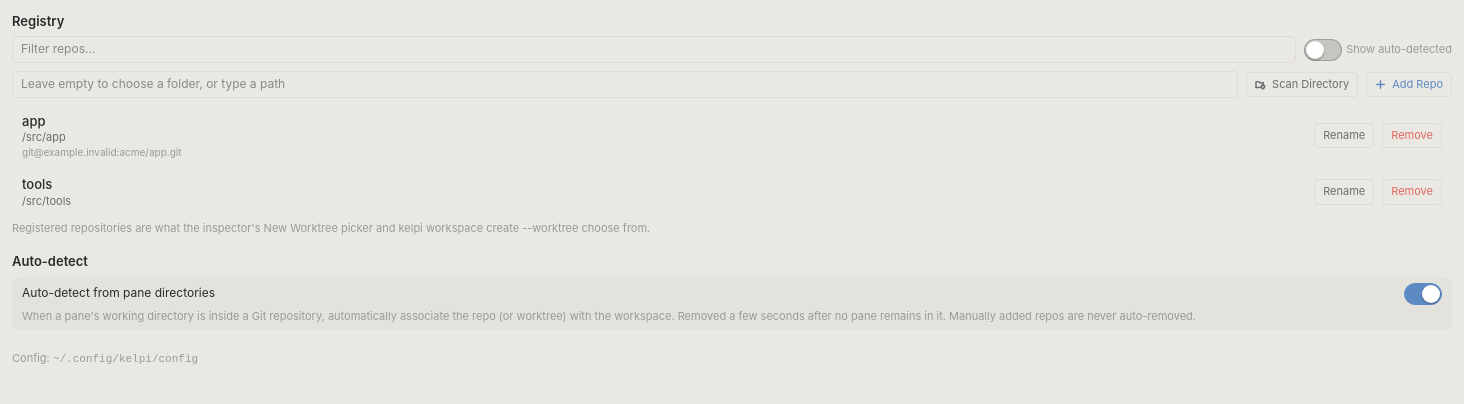
Scenario: the folder chooser behind Scan Directory and Add Repo (#283) › Scan Directory on an empty field asks for a folder and scans the one chosen
Click the button with test id "repo-scan" at point(1302, 84), box [1246,72,1358,97]
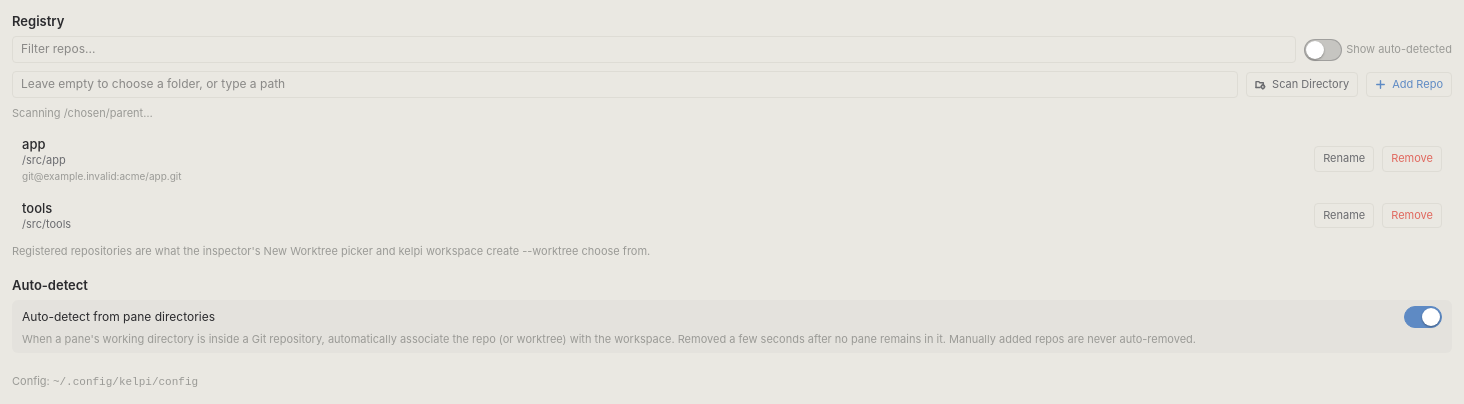
Now the text with test id "repo-notice" reads "Scanning /chosen/parent…", box [12,106,153,120]
